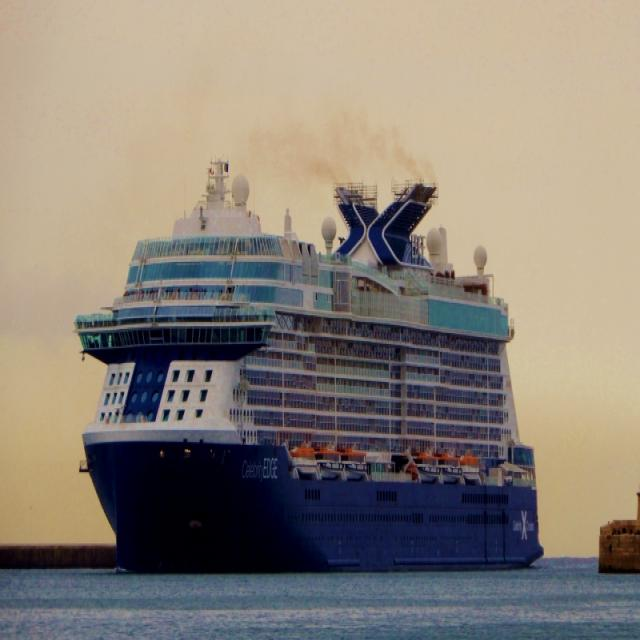cruises: (67, 127, 559, 573)
